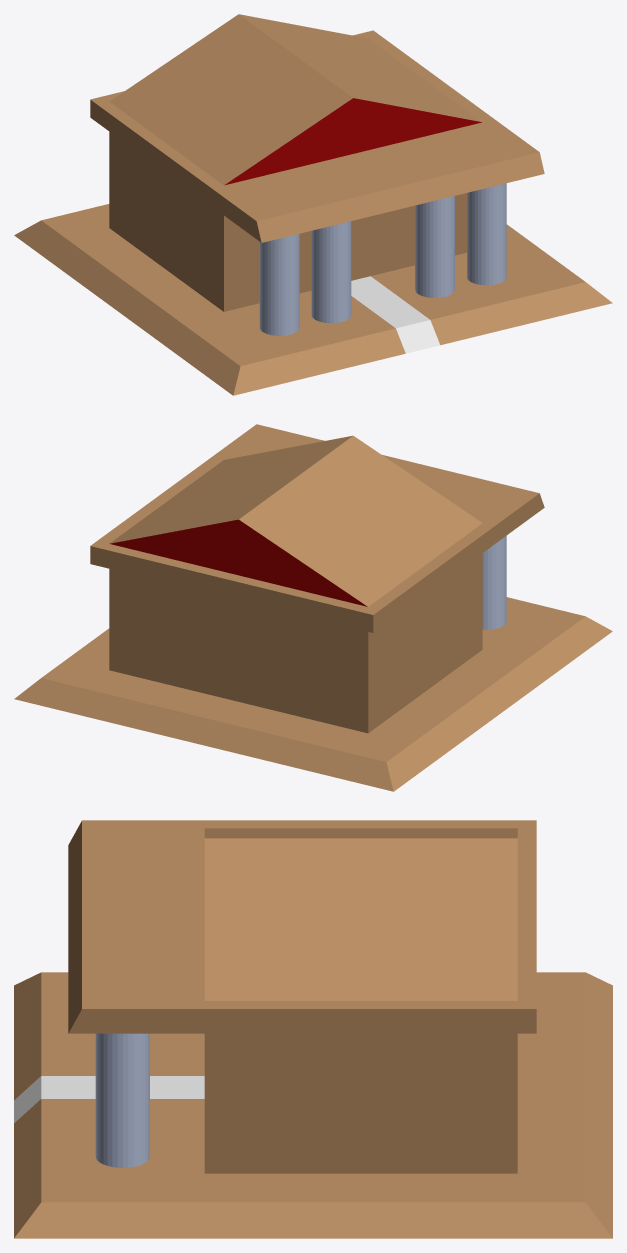
Rendered from townhall.glb.
The picture shows the model from 3 angles, top to bottom: view 1: azimuth 30°, elevation 25°; view 2: azimuth 150°, elevation 25°; view 3: azimuth 270°, elevation 25°; orthographic projection. The views are drawn at different scales.
Parts seen in each view (by area): view 1: Cube; view 2: Cube; view 3: Cube.
Boxes of the visible parts, x1,y1,x2,y2 form: Cube: [14, 14, 612, 395]; Cube: [14, 424, 612, 791]; Cube: [14, 820, 612, 1238].
Size of the model in its own units: 0.033 by 0.0166 by 0.033.
